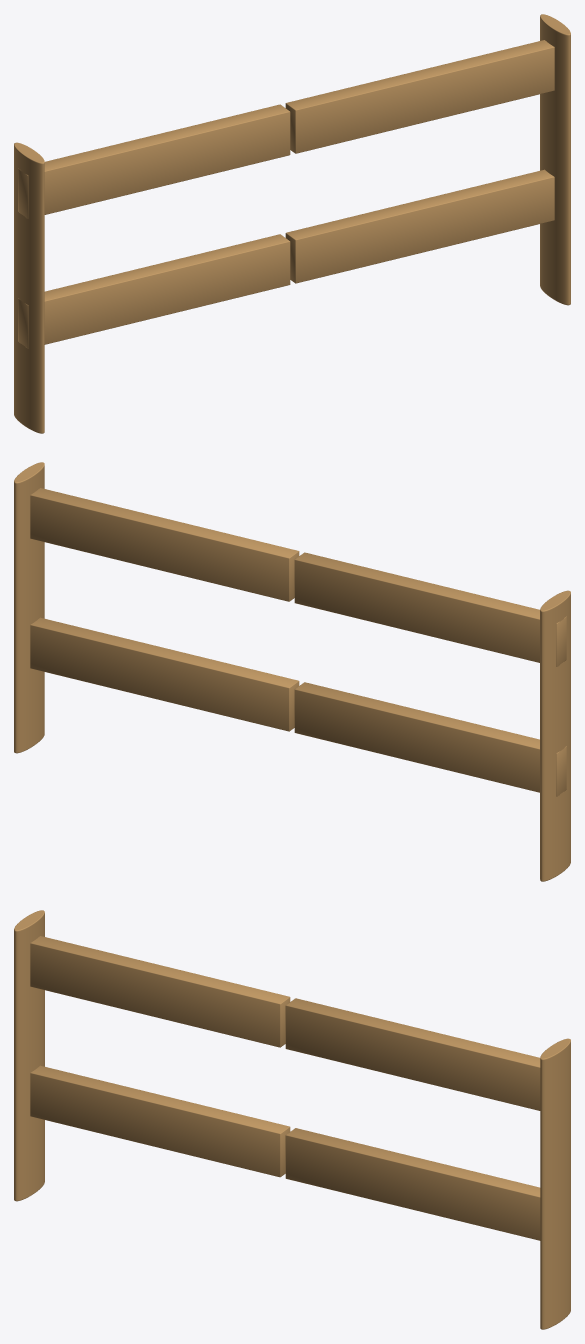
File: fence.glb
The picture shows the model from 3 angles, top to bottom: view 1: azimuth 30°, elevation 25°; view 2: azimuth 150°, elevation 25°; view 3: azimuth 330°, elevation 25°; orthographic projection.
Parts seen in each view (by area): view 1: Fence_Timber; view 2: Fence_Timber; view 3: Fence_Timber.
Boxes of the visible parts, x1,y1,x2,y2 form: Fence_Timber: (14, 14, 570, 433); Fence_Timber: (14, 462, 570, 881); Fence_Timber: (14, 910, 570, 1329).
Bounding box in the file's own units: 1 × 0.48 × 0.0899.
